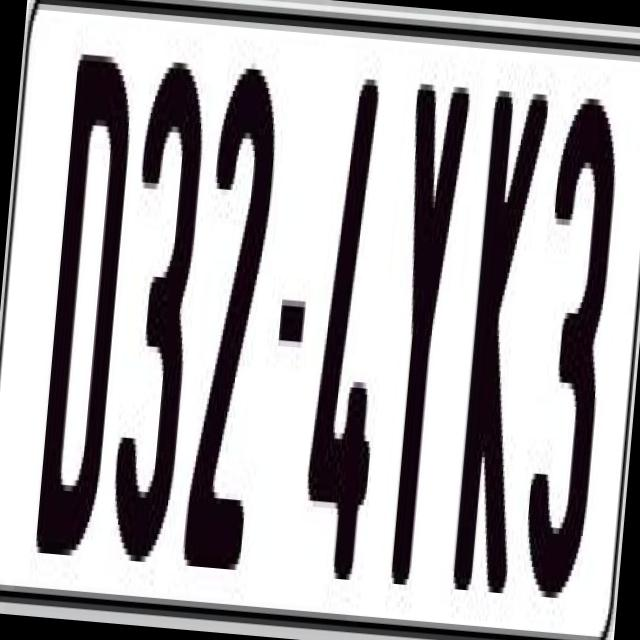2: (180, 60, 292, 600)
3: (104, 60, 215, 600), (516, 96, 618, 600)
4: (294, 76, 406, 610)
D: (32, 42, 142, 574)
K: (445, 83, 549, 622)
Y: (372, 82, 479, 592)
